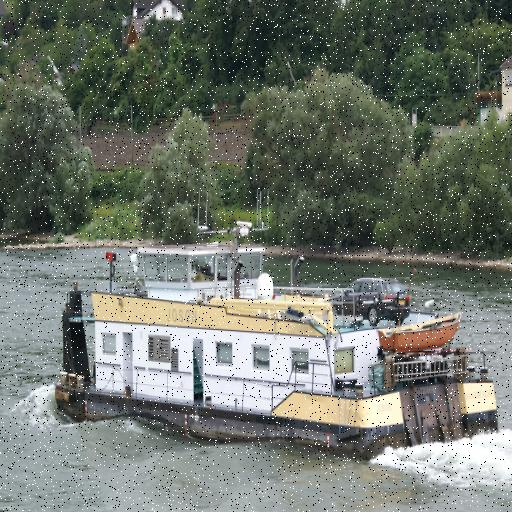tugboat: (51, 186, 503, 468)
